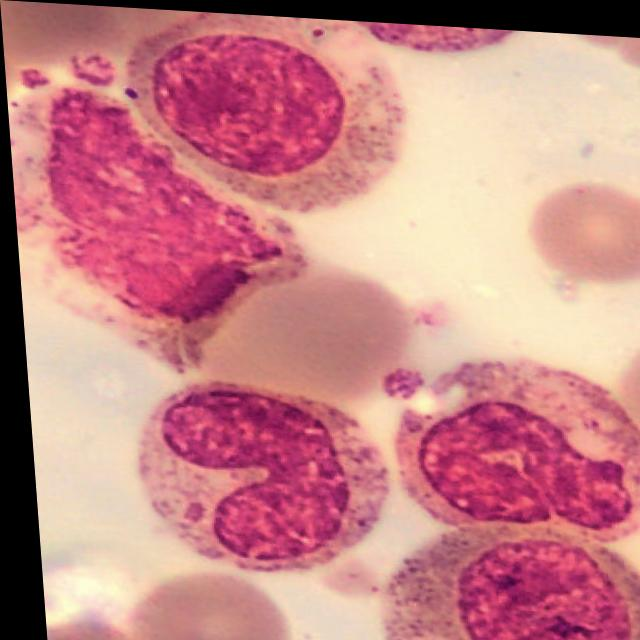Bastonete: (130, 379, 384, 569), (380, 350, 640, 532)
Mielocito: (128, 23, 403, 209), (370, 524, 640, 640)
